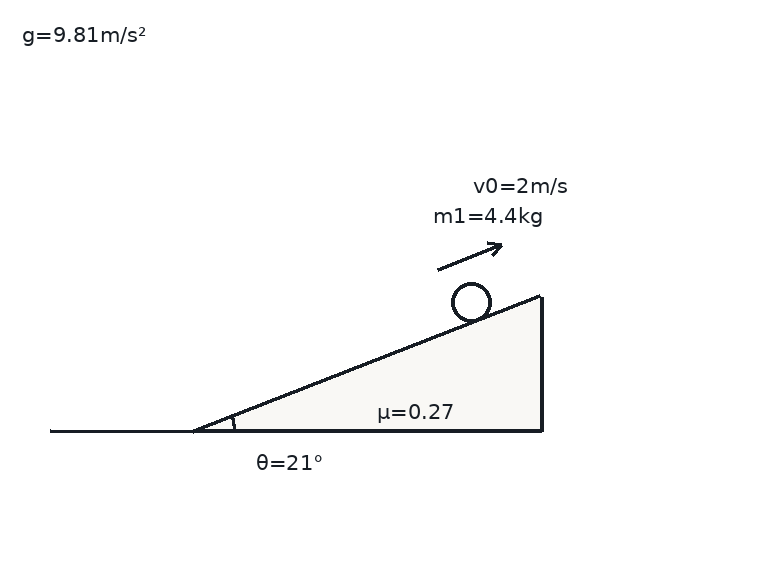ball: (449, 280, 493, 324)
ramp: (192, 295, 543, 432)
